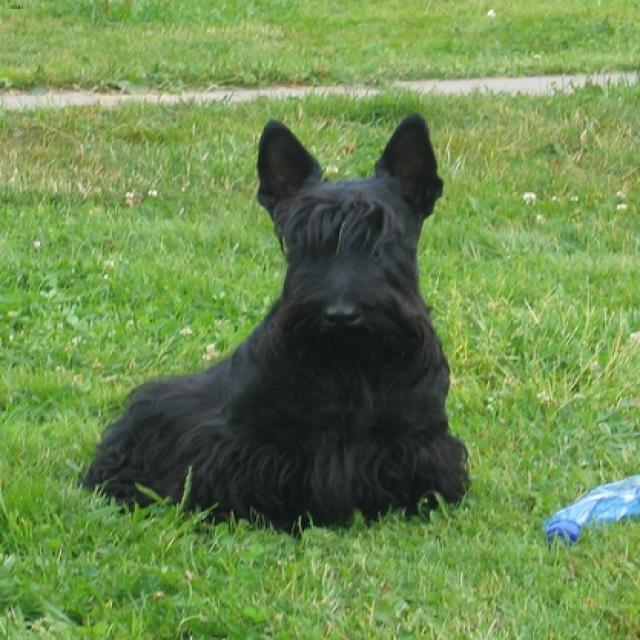dog-scottish_terrier: (71, 100, 479, 543)
